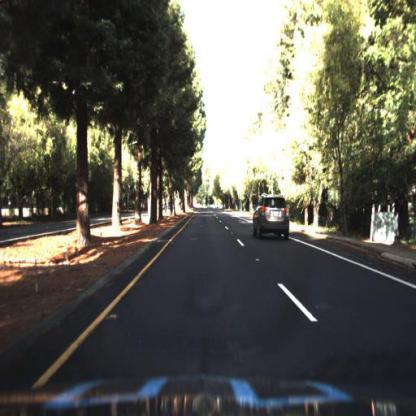car: (253, 195, 290, 244)
